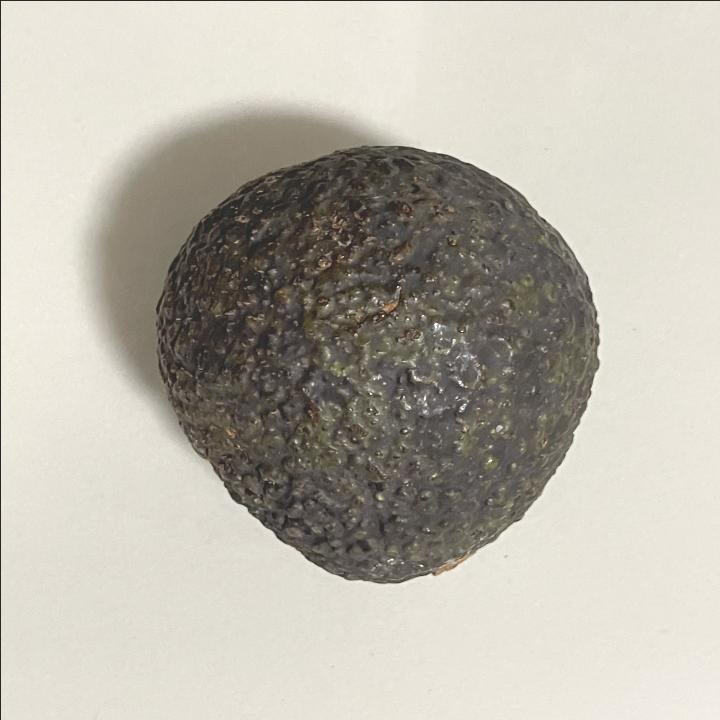Level2: (143, 139, 611, 595)
